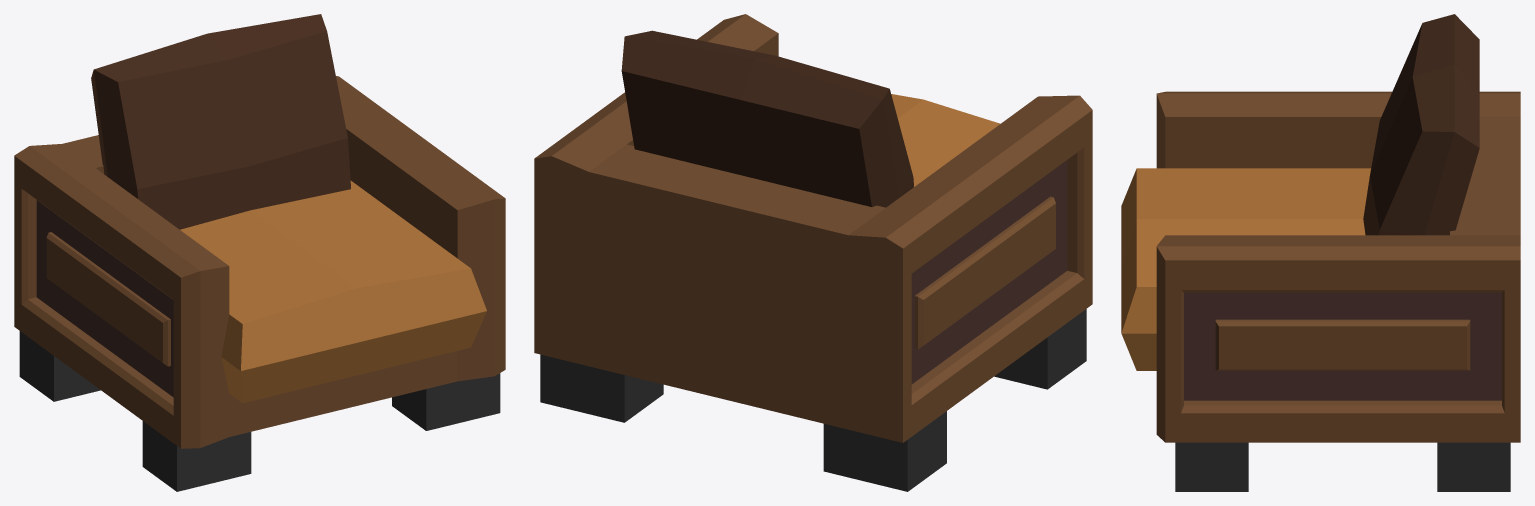
The model's file is Prop_Sofa_02_B.fbx.
3 views of the same model, side by side, from view 1: azimuth 30°, elevation 25°; view 2: azimuth 150°, elevation 25°; view 3: azimuth 270°, elevation 25° (orthographic). The views are drawn at different scales.
Visible parts, largest first — view 1: Prop_Sofa_02_B; view 2: Prop_Sofa_02_B; view 3: Prop_Sofa_02_B.
Boxes of the visible parts, bbox=[...] form: Prop_Sofa_02_B: bbox=[14, 14, 505, 491]; Prop_Sofa_02_B: bbox=[534, 14, 1092, 491]; Prop_Sofa_02_B: bbox=[1121, 14, 1520, 491].
Size of the model in its own units: 100 by 95 by 100.
